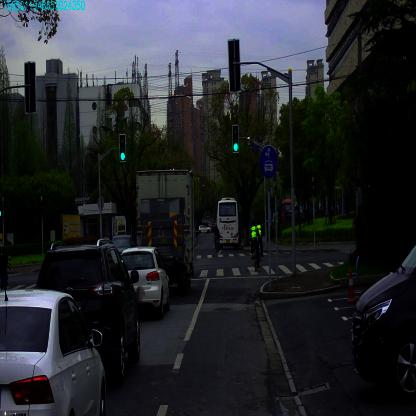traffic-light: (120, 134, 126, 161), (233, 125, 238, 152)
